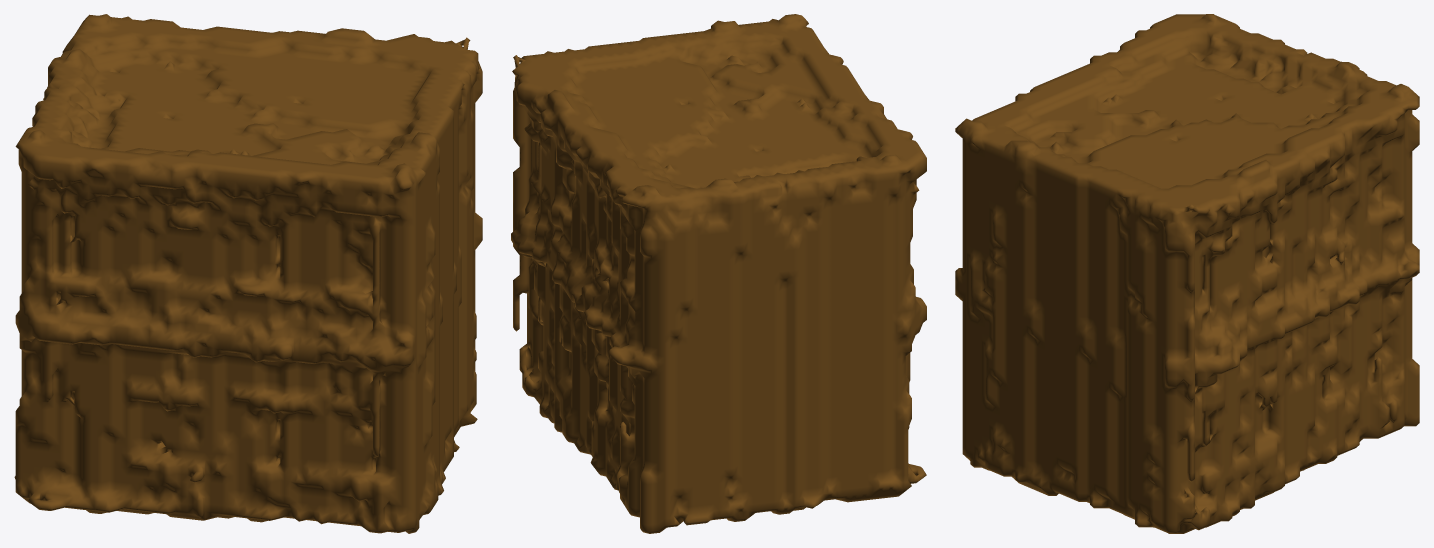
File: gen3_colored.obj
The picture shows the model from 3 angles, left to right: view 1: azimuth 30°, elevation 25°; view 2: azimuth 150°, elevation 25°; view 3: azimuth 270°, elevation 25°; orthographic projection. The views are drawn at different scales.
Visible parts, largest first — view 1: gen3.obj; view 2: gen3.obj; view 3: gen3.obj.
Boxes of the visible parts, x1,y1,x2,y2 form: gen3.obj: (14, 14, 482, 533); gen3.obj: (511, 14, 926, 533); gen3.obj: (955, 14, 1419, 533).
Bounding box in the file's own units: 63 × 50 × 62.
